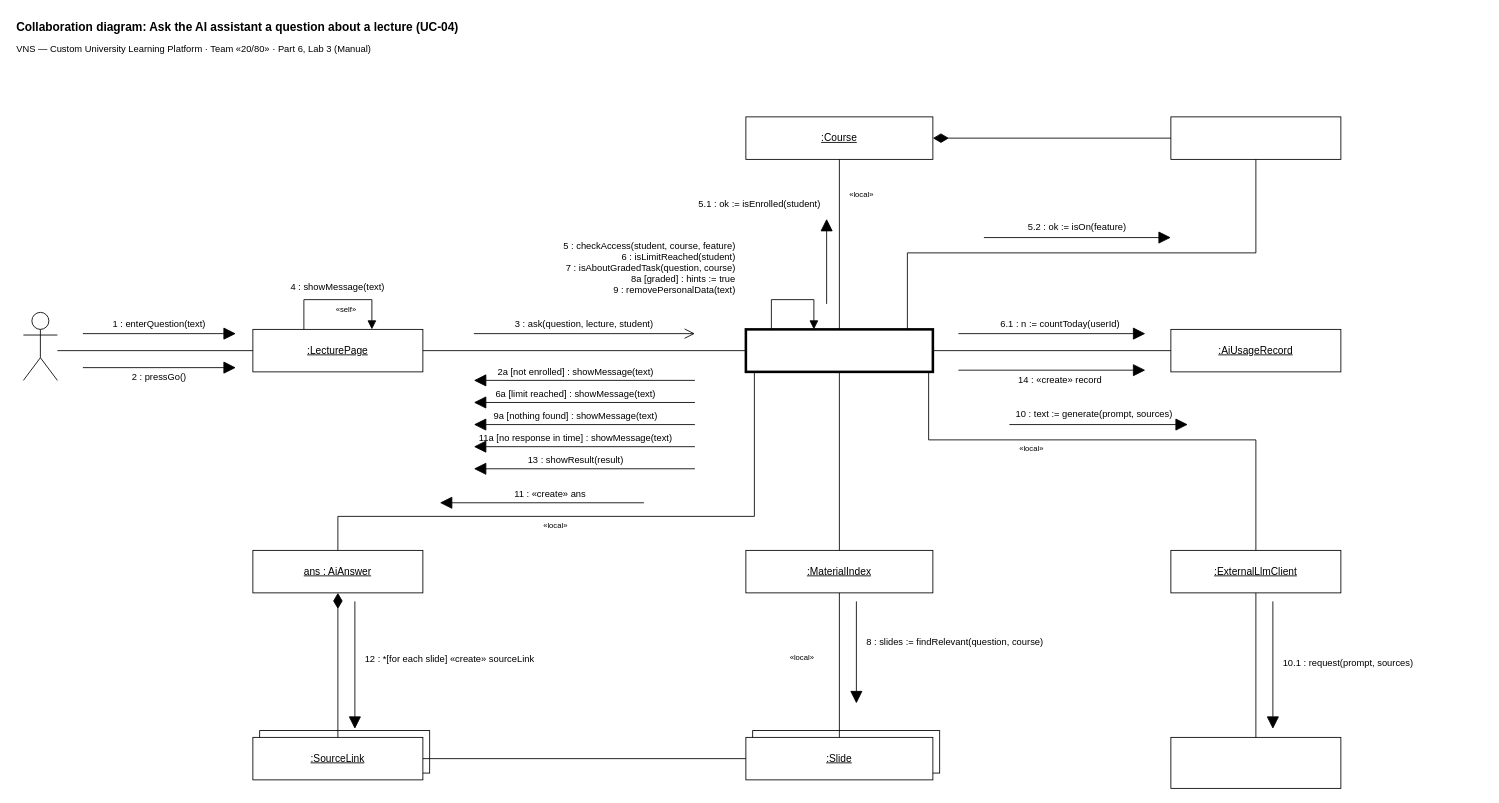
Image size: 1499x803. Some labels were removed from this diagram. Each missing label, with the centre of its shape:
:AiAssistant: the point at 839,350
:AiSettings: the point at 1255,137
Student: the point at 40,346
«external system» LLM API: the point at 1255,762
